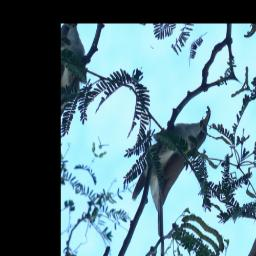Cuckoo: (105, 85, 236, 256)
